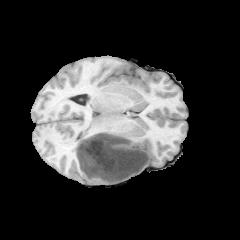glioma: (71, 130, 150, 184)
